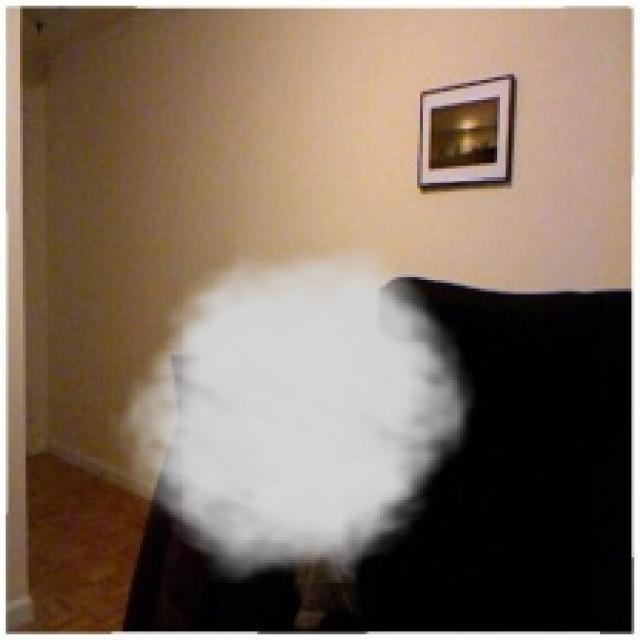Smoke: (108, 231, 486, 583)
